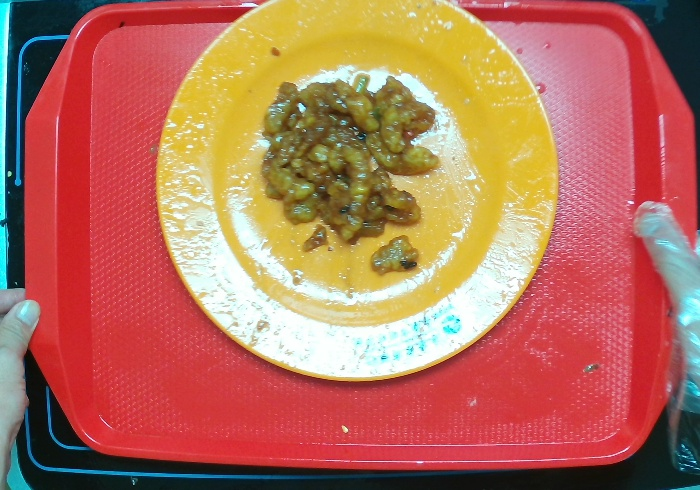YKMZ-Ju_Se_Mian_Pan: (154, 1, 571, 389)
